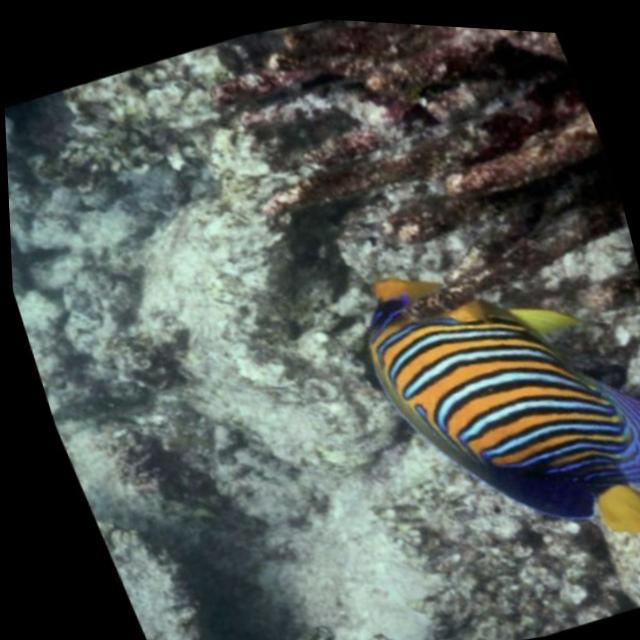Dead Coral: (210, 10, 602, 316)
